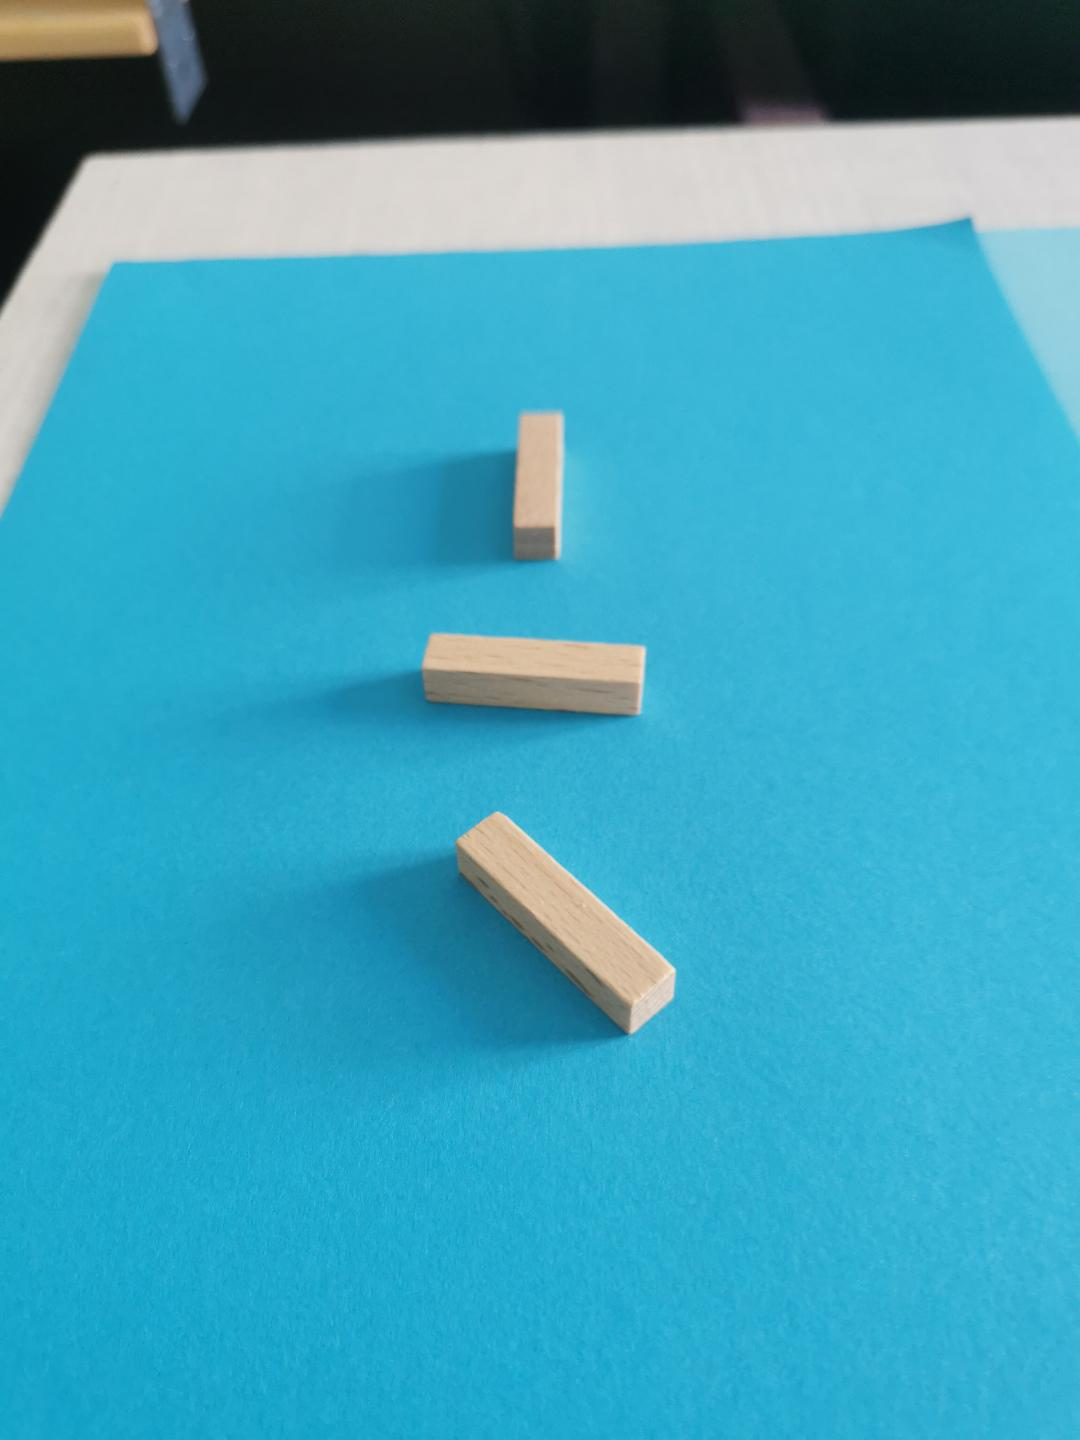jenga: (456, 813, 675, 1032), (422, 633, 647, 714), (515, 410, 563, 560)
